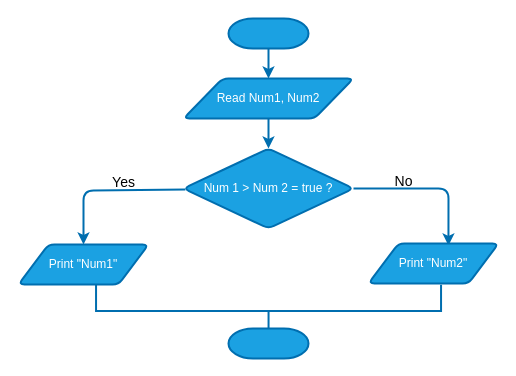
Image size: 516x376. Some labels were removed from this diagram. The shapes that lost their labels are listed below. From the top down, each one's box as (x1, y1, x2, y2) in pixels, then its label:
(227, 17, 309, 49): start
(227, 327, 309, 359): End
